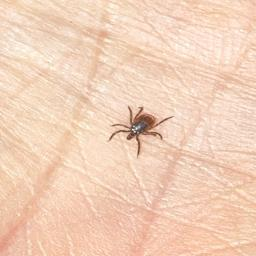Ixodes scapularis: (107, 106, 174, 158)
